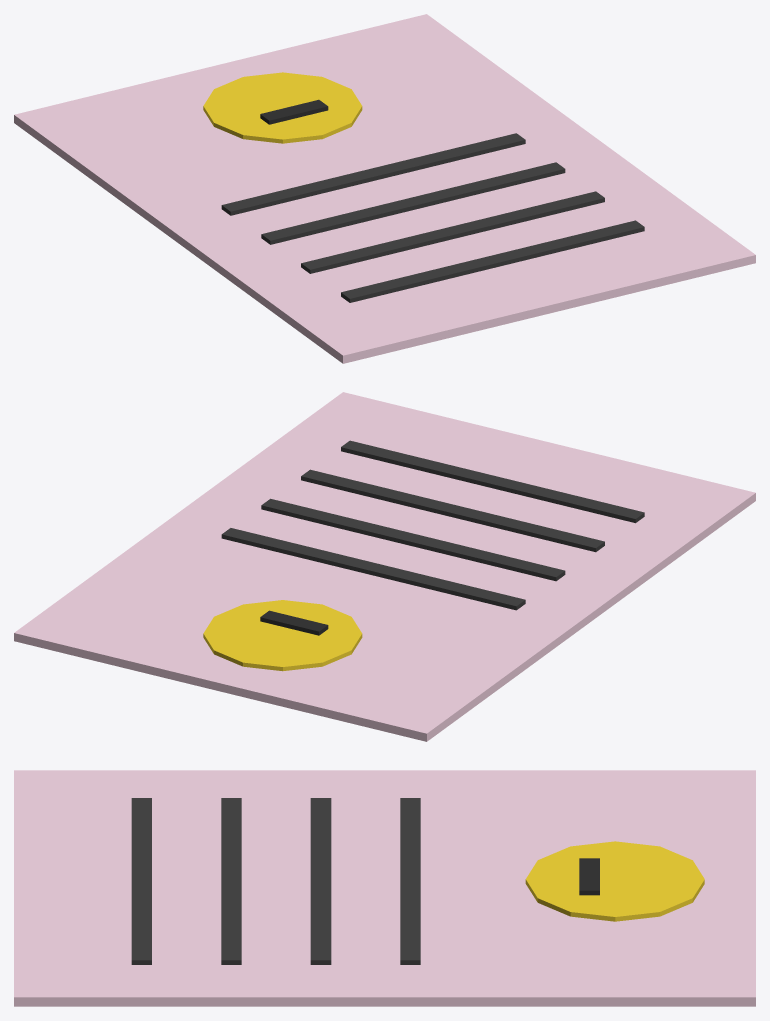
Rendered from carcajada_invoice.glb.
3 views of the same model, one above another, from view 1: azimuth 30°, elevation 25°; view 2: azimuth 150°, elevation 25°; view 3: azimuth 270°, elevation 25° (orthographic). The views are drawn at different scales.
Visible parts, largest first — view 1: sheet_invoice_pink, lines_invoice_ink (×4), face_face_yellow, mouth_face_ink; view 2: sheet_invoice_pink, lines_invoice_ink (×4), face_face_yellow, mouth_face_ink; view 3: sheet_invoice_pink, lines_invoice_ink (×4), face_face_yellow, mouth_face_ink.
Part boxes in pixels (left/top/right/bottom): sheet_invoice_pink: left=14, top=14, right=755, bottom=363; lines_invoice_ink (×4): left=221, top=133, right=644, bottom=302; face_face_yellow: left=203, top=72, right=362, bottom=143; mouth_face_ink: left=260, top=99, right=328, bottom=124; sheet_invoice_pink: left=14, top=392, right=755, bottom=741; lines_invoice_ink (×4): left=221, top=440, right=644, bottom=610; face_face_yellow: left=203, top=600, right=362, bottom=671; mouth_face_ink: left=260, top=610, right=328, bottom=635; sheet_invoice_pink: left=14, top=770, right=755, bottom=1006; lines_invoice_ink (×4): left=131, top=798, right=420, bottom=964; face_face_yellow: left=525, top=841, right=704, bottom=921; mouth_face_ink: left=579, top=858, right=599, bottom=895.
Size of the model in its own units: 0.21 by 0.008 by 0.29.
